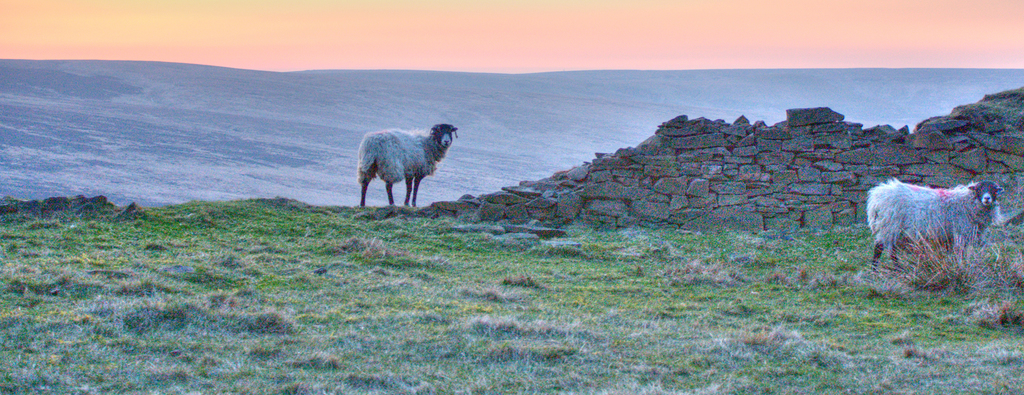sheep: (357, 117, 460, 204)
